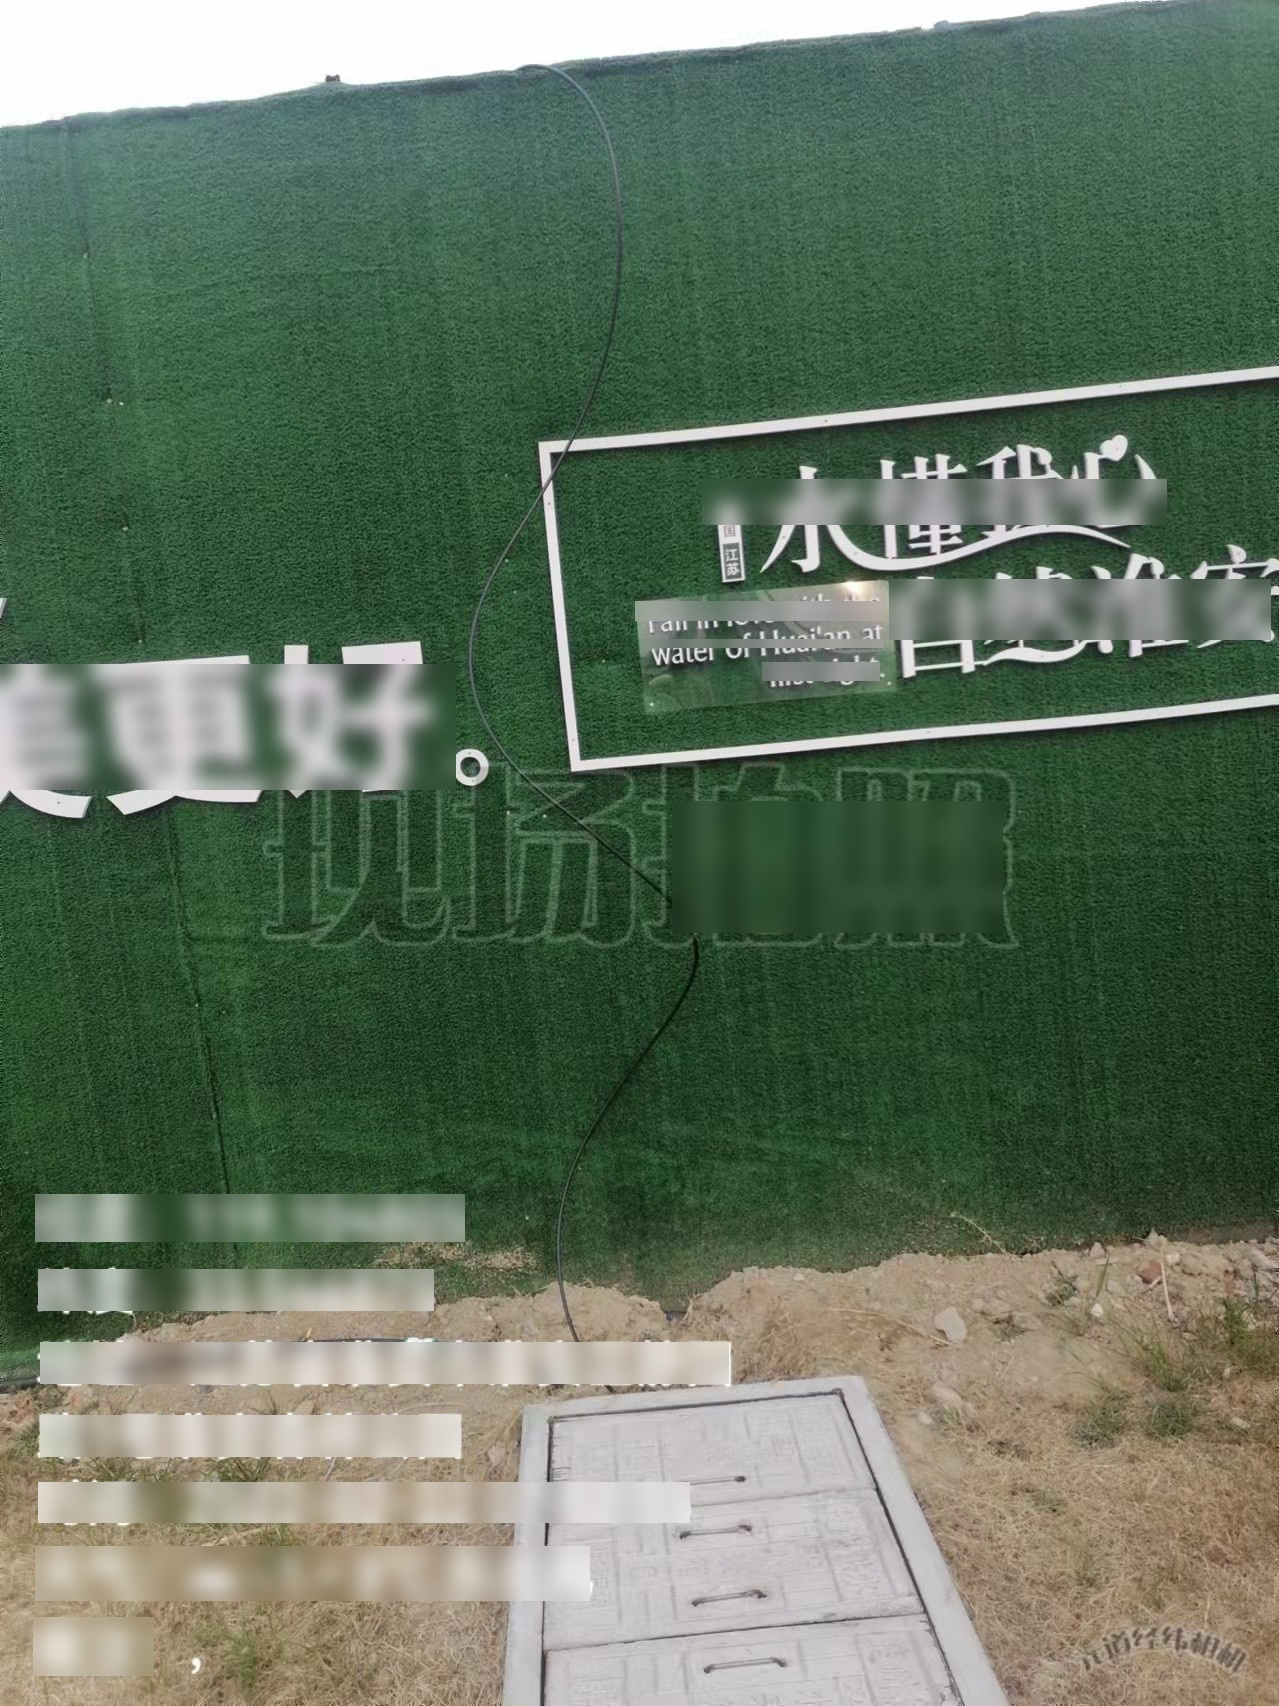good: (494, 1369, 1008, 1706)
